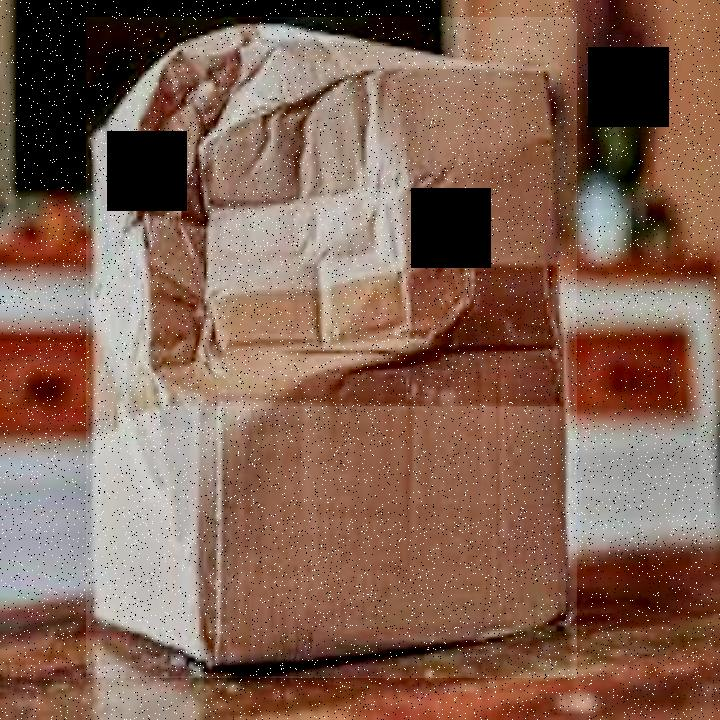box: (86, 17, 577, 678)
